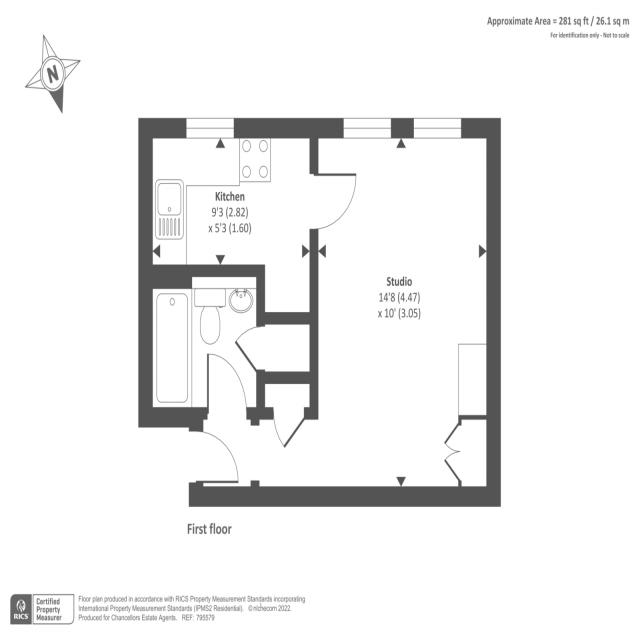DOOR: (205, 351, 248, 419), (309, 172, 357, 232), (189, 429, 240, 485)
ROOM: (189, 117, 501, 507), (138, 117, 358, 326)
WINDOW: (342, 116, 392, 140), (185, 117, 235, 139), (413, 117, 462, 139)
